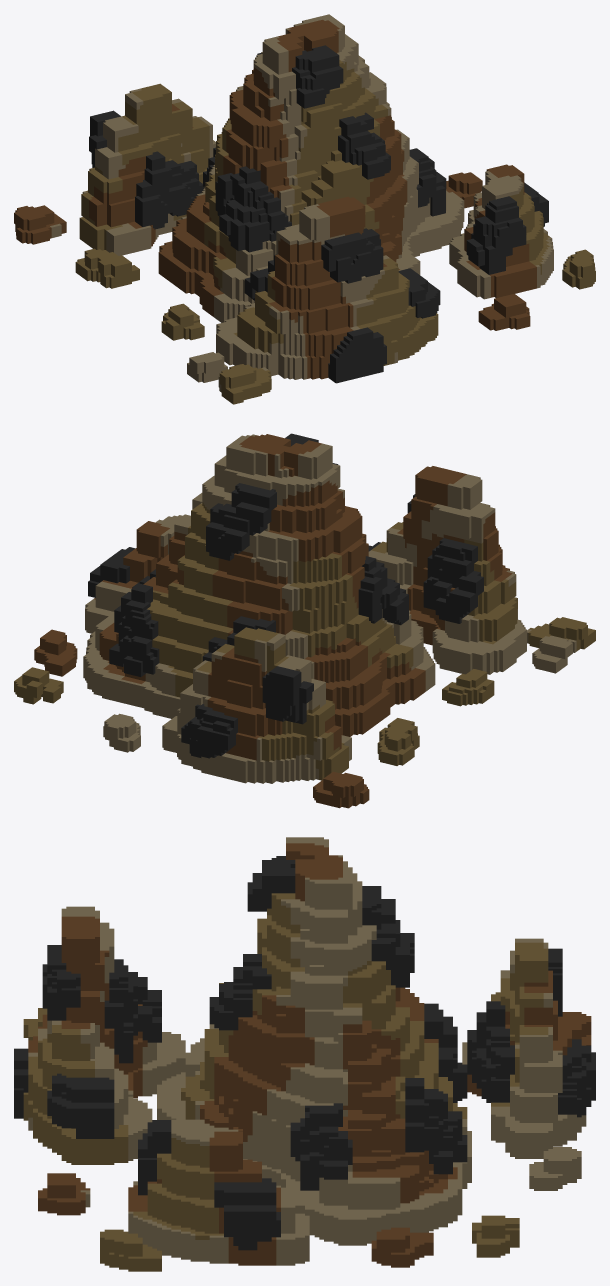
Rendered from pileStone4.obj.
3 views of the same model, one above another, from view 1: azimuth 30°, elevation 25°; view 2: azimuth 150°, elevation 25°; view 3: azimuth 270°, elevation 25° (orthographic). The views are drawn at different scales.
Bounding box in the file's own units: 12.1 × 6.6 × 12.2.
1 material, 1 textured.
